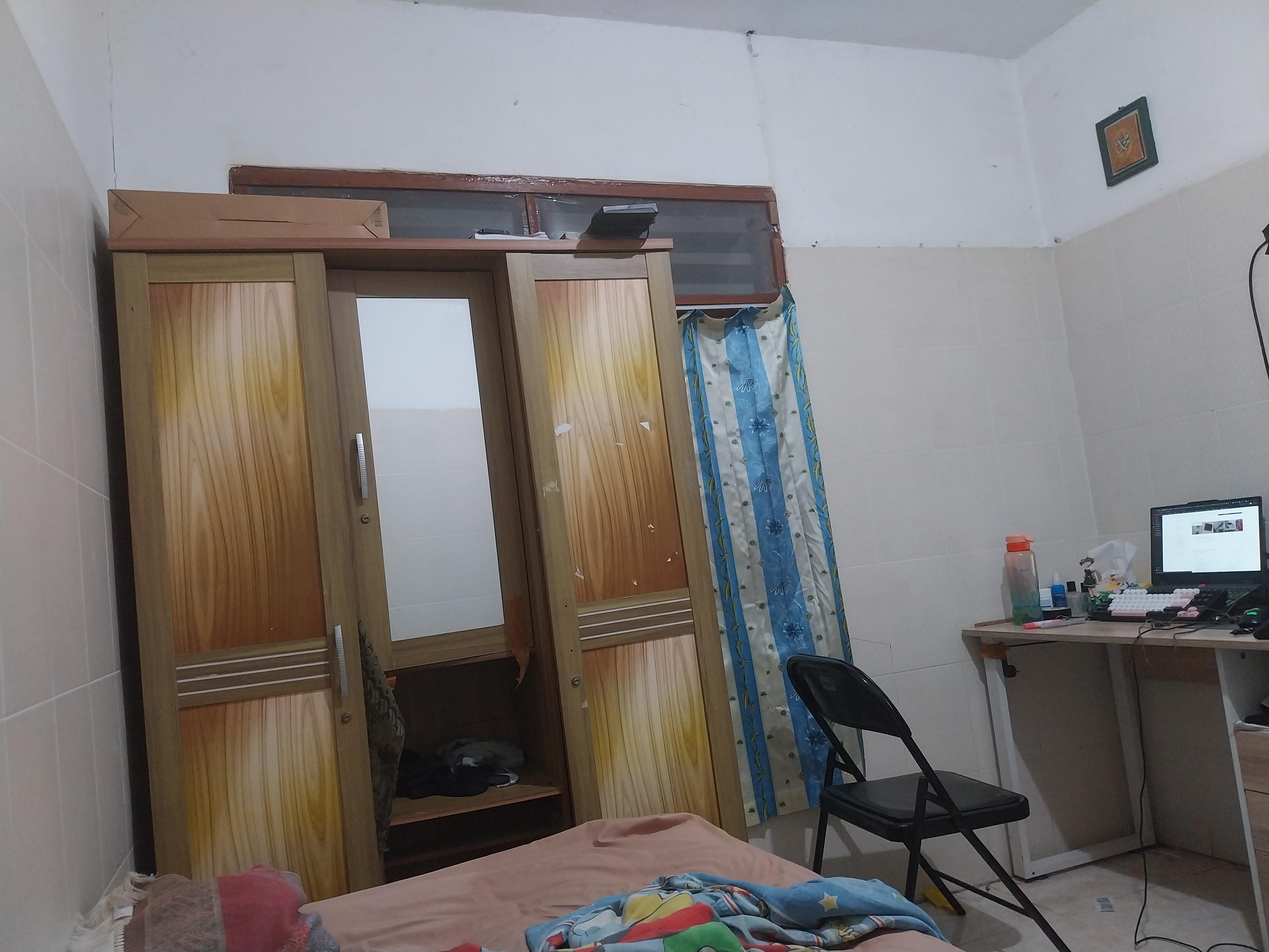bed: (293, 769, 828, 952)
cabinet-merged: (108, 195, 747, 910), (470, 243, 483, 248), (226, 243, 234, 249), (151, 244, 158, 247), (504, 245, 507, 247)
chair: (729, 645, 1133, 952), (915, 821, 1032, 903), (832, 699, 921, 798)
curtain: (671, 285, 873, 824), (842, 729, 865, 755)
laptop: (1146, 493, 1267, 615)
